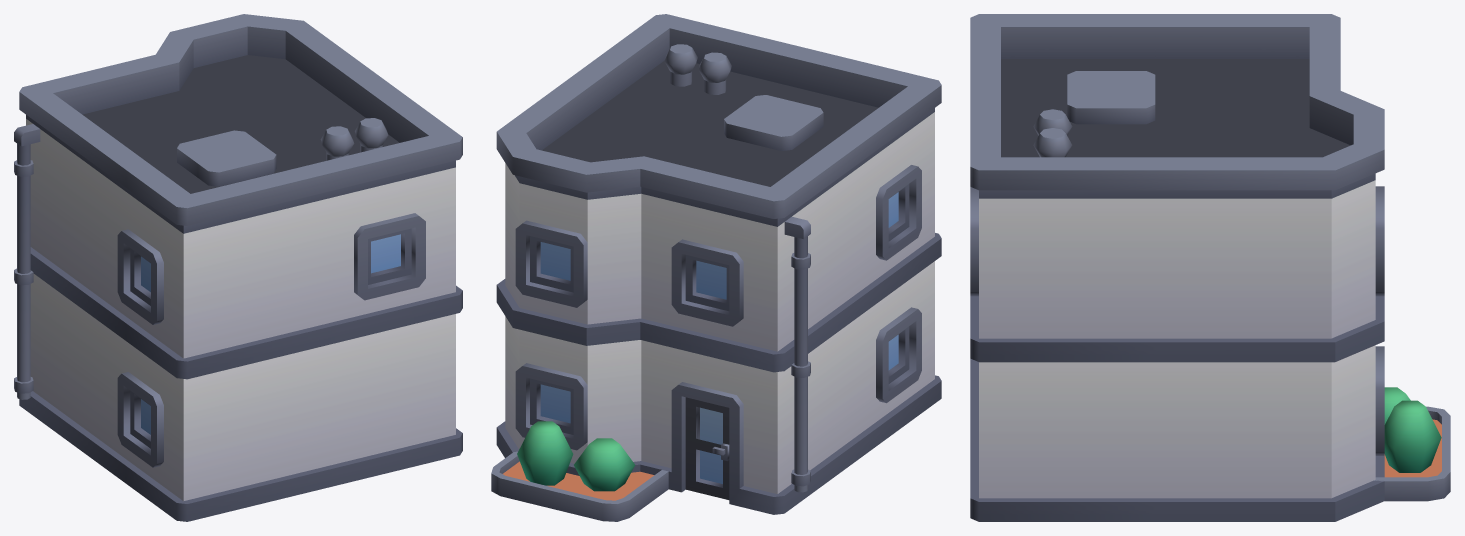
File: building-c.glb
3 renders of one model, left to right at view 1: azimuth 30°, elevation 25°; view 2: azimuth 150°, elevation 25°; view 3: azimuth 270°, elevation 25°, orthographic. The views are drawn at different scales.
Visible parts, largest first — view 1: building-c; view 2: building-c; view 3: building-c.
Boxes of the visible parts, x1=… form: building-c: x1=14, y1=14, x2=462, y2=521; building-c: x1=491, y1=14, x2=941, y2=521; building-c: x1=970, y1=14, x2=1450, y2=521.
Size of the model in its own units: 0.8836 by 0.893 by 1.09.
1 material, 1 textured.
